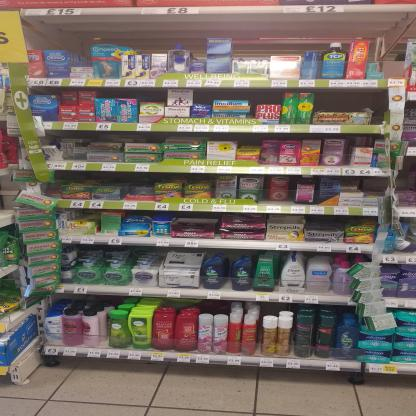Void: (54, 170, 148, 185), (315, 93, 382, 109), (93, 89, 163, 99), (365, 179, 390, 197), (311, 218, 340, 227), (69, 210, 96, 218)
